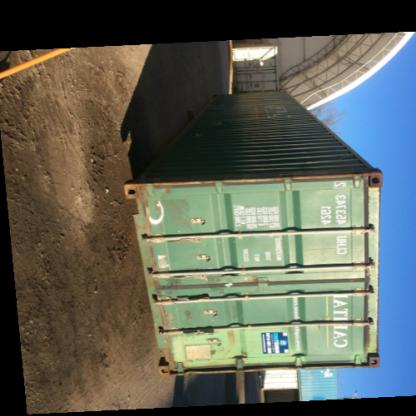Damage: (165, 198, 191, 242), (152, 272, 180, 310), (180, 305, 200, 331), (197, 344, 221, 358)
